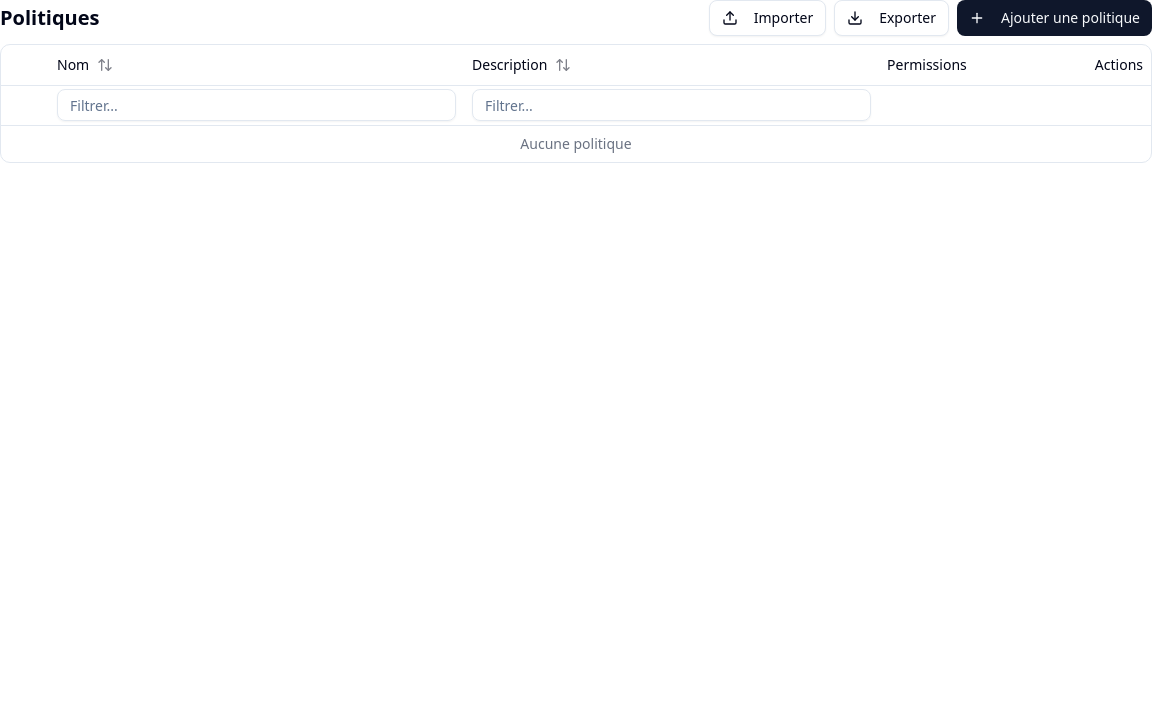
Test: Policies Component › Policy CRUD Operations › should cancel policy dialog
This screenshot has width=1152, height=720.
Step 1. Click the button with test id "policies-add-button" → (1054, 18), box 957,0 -> 1151,36
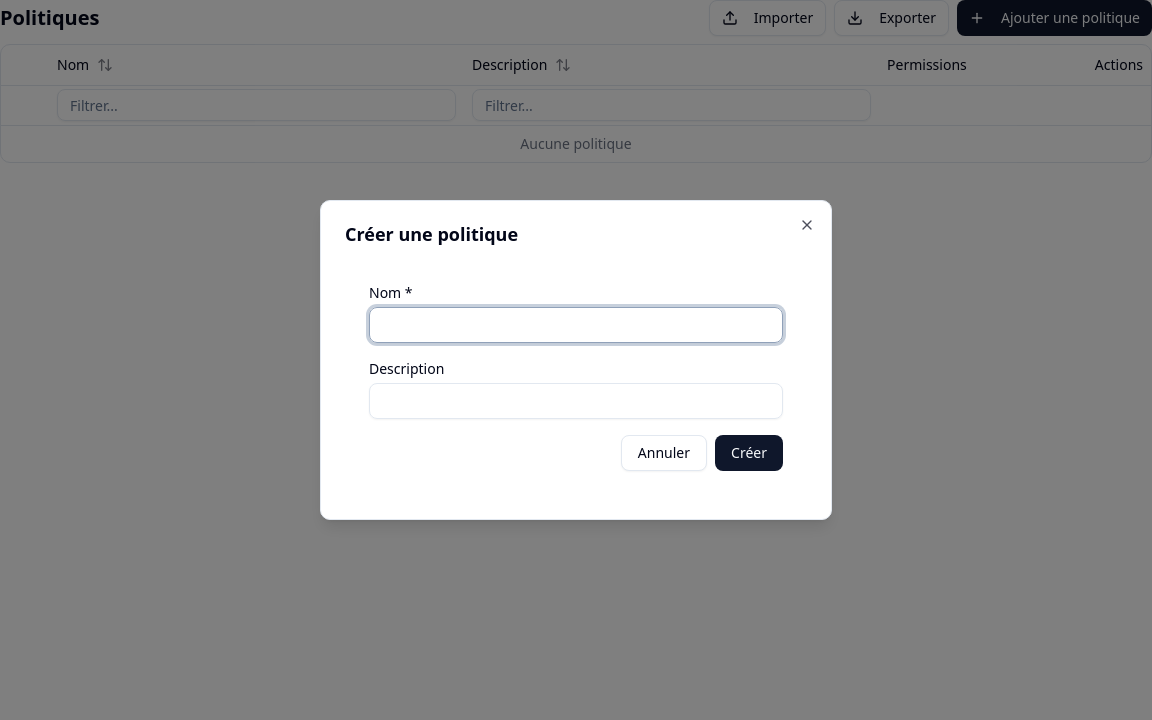
Expected: the dialog with test id "policy-dialog" is shown, 320,200 -> 832,520
Step 2. Click the button with test id "policy-cancel-button" → (664, 453), box 621,435 -> 707,471
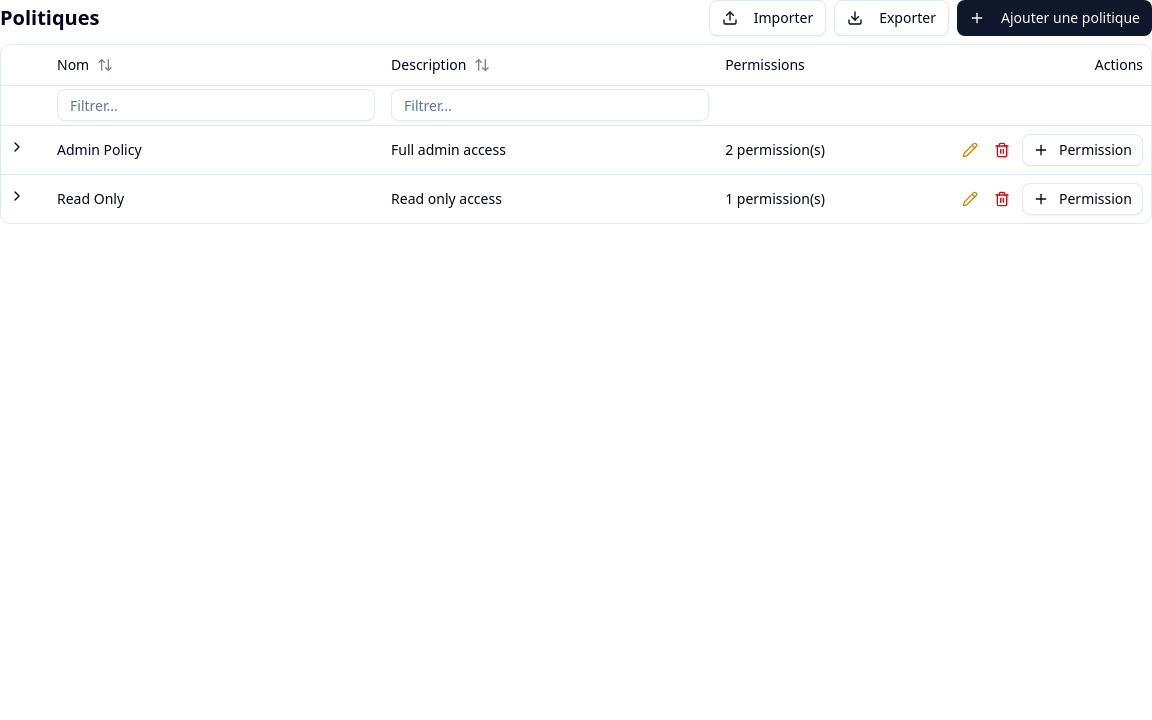
Expected: the heading with test id "policy-dialog-title" is gone
